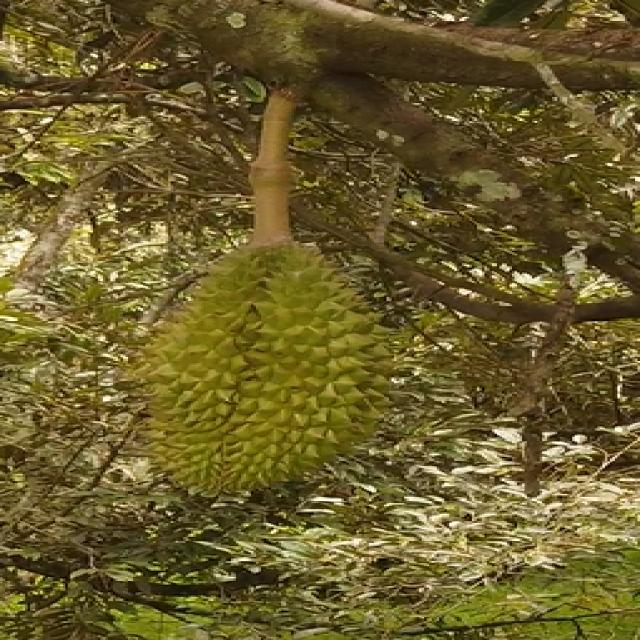immature: (124, 240, 398, 500)
